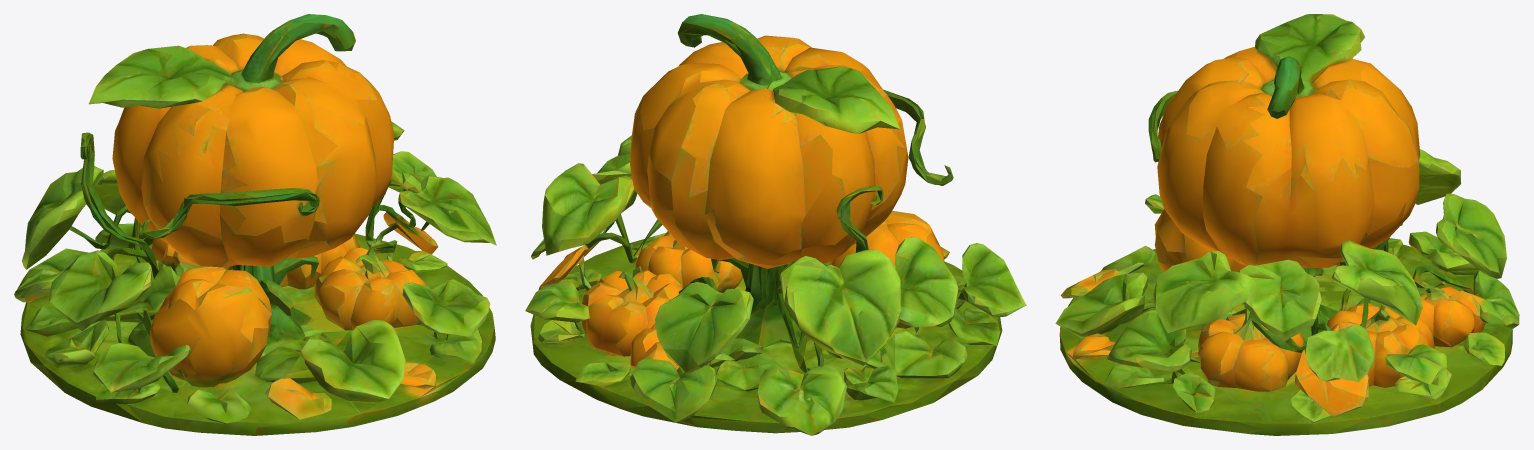
The model's file is pumpkin_plant.glb.
The picture shows the model from 3 angles, left to right: view 1: azimuth 30°, elevation 25°; view 2: azimuth 150°, elevation 25°; view 3: azimuth 270°, elevation 25°; orthographic projection. The views are drawn at different scales.
Size of the model in its own units: 0.9873 by 0.7102 by 0.9957.
Materials: 1 (1 with a texture image).
